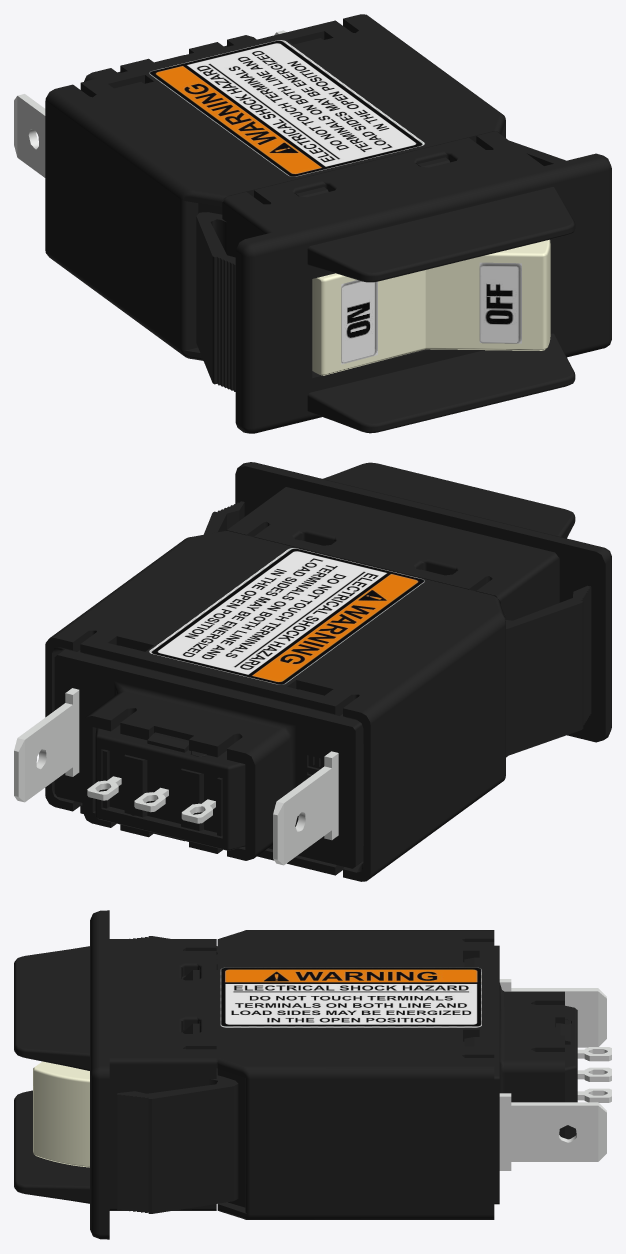
The model's file is B-frame.glb.
3 views of the same model, one above another, from view 1: azimuth 30°, elevation 25°; view 2: azimuth 150°, elevation 25°; view 3: azimuth 270°, elevation 25° (orthographic). The views are drawn at different scales.
Parts seen in each view (by area): view 1: Skal, warning, Knapp, Off, On, Stift; view 2: Skal, warning, Stift; view 3: Skal, warning, Stift, Knapp.
Boxes of the visible parts, box(x1,y1,x2,y2) form: Skal: box(45, 14, 611, 433); warning: box(149, 40, 424, 176); Knapp: box(312, 239, 550, 375); Off: box(479, 262, 521, 343); On: box(341, 280, 377, 364); Stift: box(14, 30, 285, 177); Skal: box(45, 462, 611, 881); warning: box(149, 548, 424, 684); Stift: box(14, 688, 338, 865); Skal: box(14, 910, 577, 1239); warning: box(220, 967, 481, 1027); Stift: box(499, 979, 611, 1170); Knapp: box(33, 1061, 89, 1167).
Size of the model in its own units: 0.0396 by 0.0195 by 0.0612.
6 materials, 3 textured.
